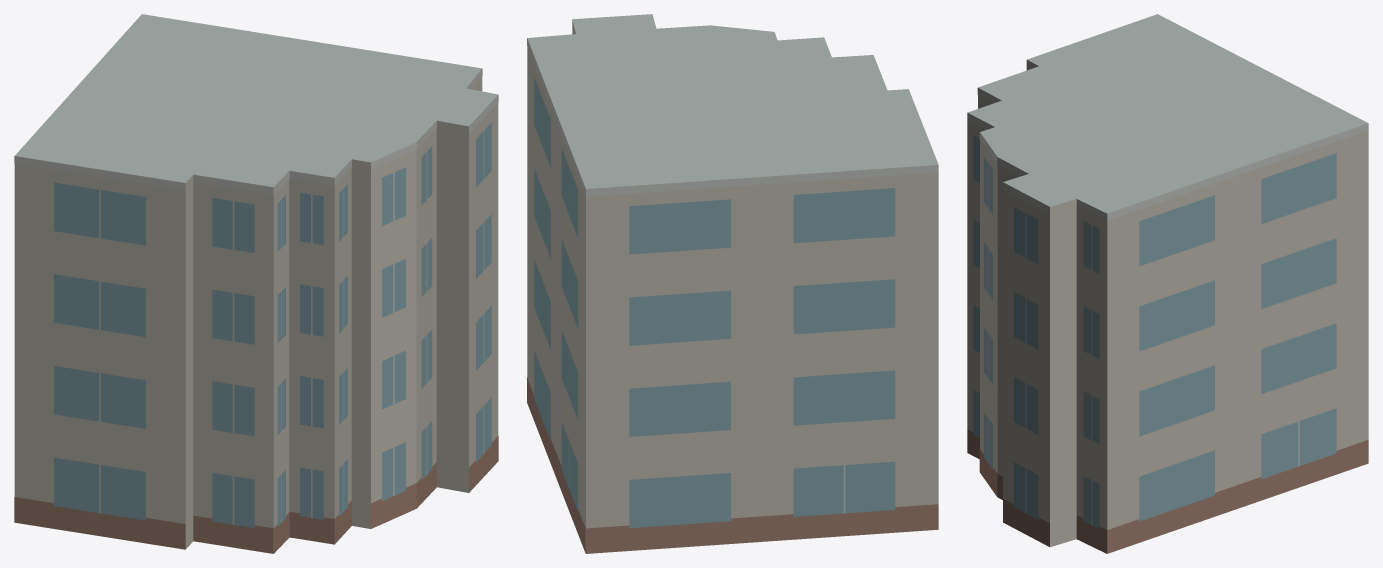
File: survey-upis-32801867.glb
3 renders of one model, left to right at view 1: azimuth 30°, elevation 25°; view 2: azimuth 150°, elevation 25°; view 3: azimuth 270°, elevation 25°, orthographic. The views are drawn at different scales.
Parts seen in each view (by area): view 1: survey-upis-32801867.tmp; view 2: survey-upis-32801867.tmp; view 3: survey-upis-32801867.tmp.
Part boxes in pixels (x1,y1,x2,y2): survey-upis-32801867.tmp: [14, 14, 498, 553]; survey-upis-32801867.tmp: [527, 14, 938, 553]; survey-upis-32801867.tmp: [967, 14, 1368, 553].
Bounding box in the file's own units: 14.47 × 11.5 × 12.29.
